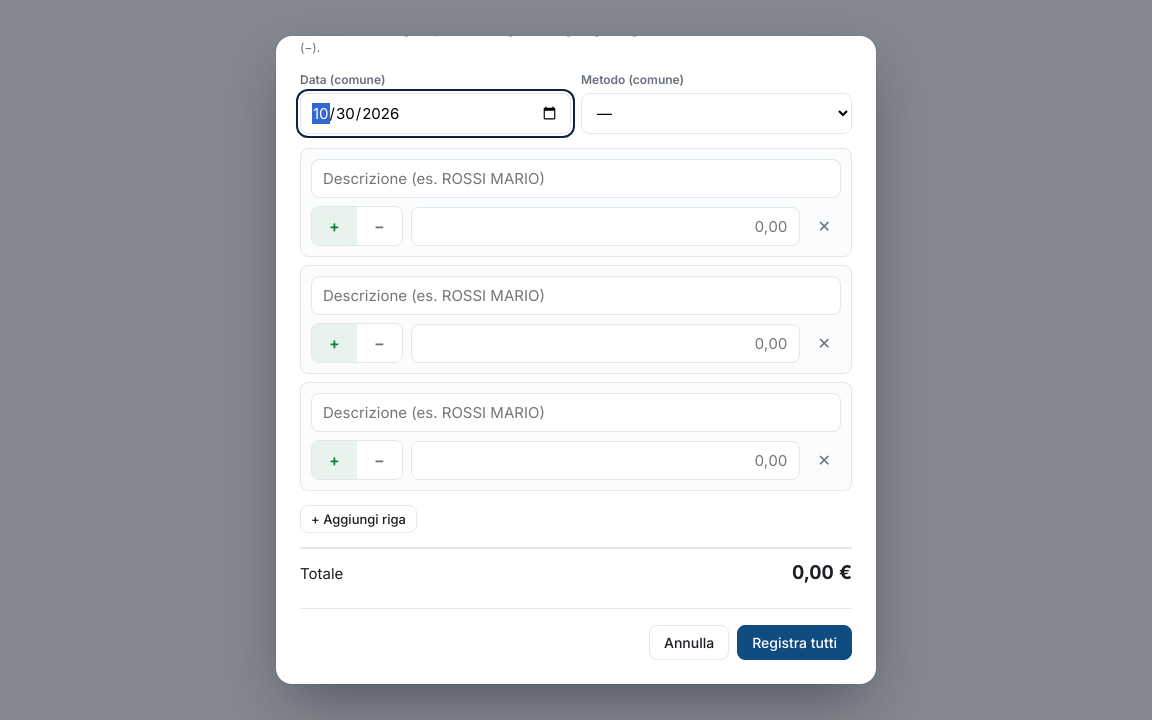
BulkMovimentiModal — l'errore va sulla RIGA, non in un riassunto › righe tutte vuote alla registrazione: un avviso generale, non un toast, senza scrivere
(page scrolled)
Click the button "Registra tutti".
click(795, 642)  # box x1=737 y1=624 x2=852 y2=660
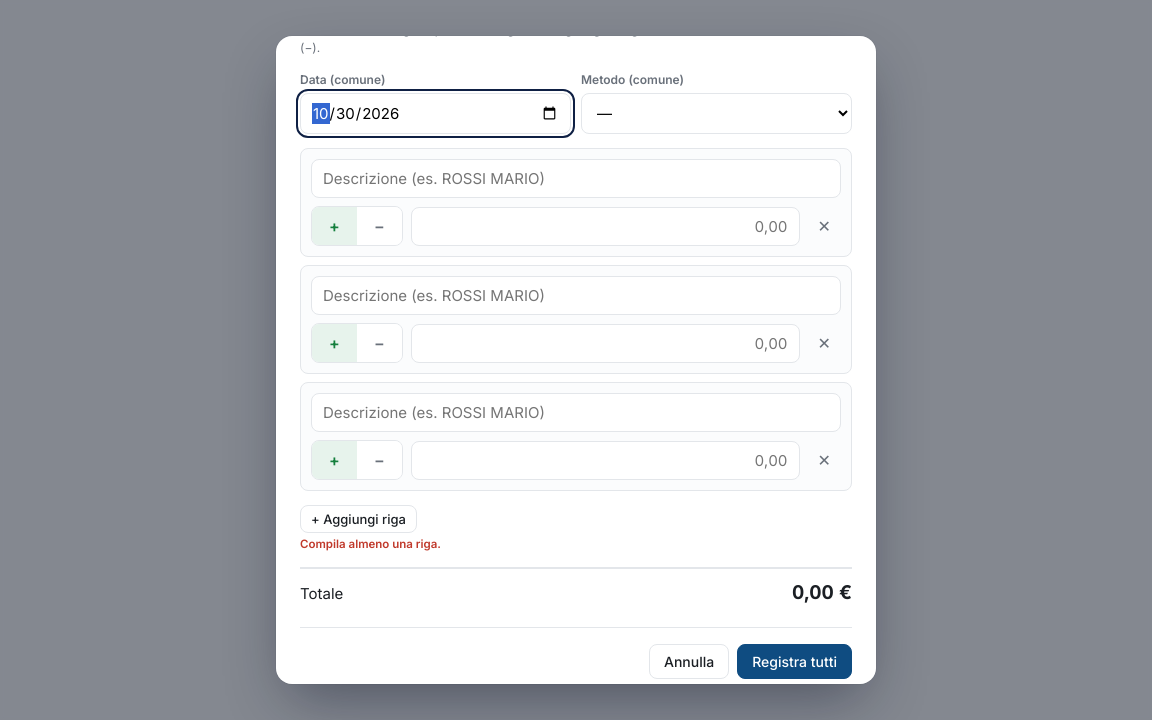
Expected: the message shows "Compila almeno una riga", x1=300 y1=537 x2=441 y2=551
